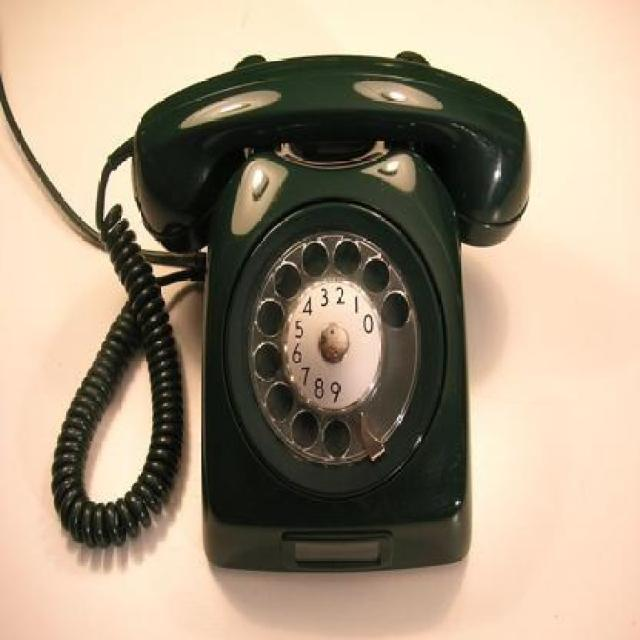not trash: (127, 49, 531, 571)
